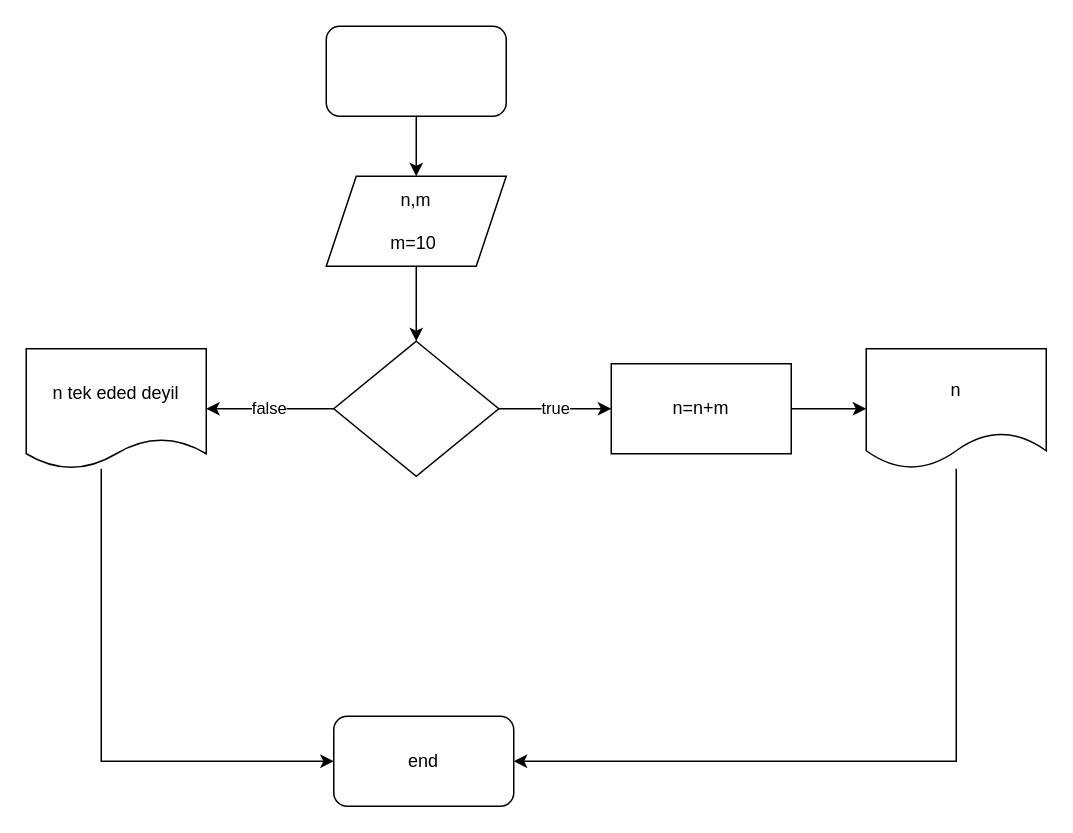
Some shapes in this 1073 by 833 pixel diagram are drawn without their labels. The centre of each missing label's shape, as x and y in pixels:
n%2==1: (x=415, y=408)
start: (x=415, y=70)
